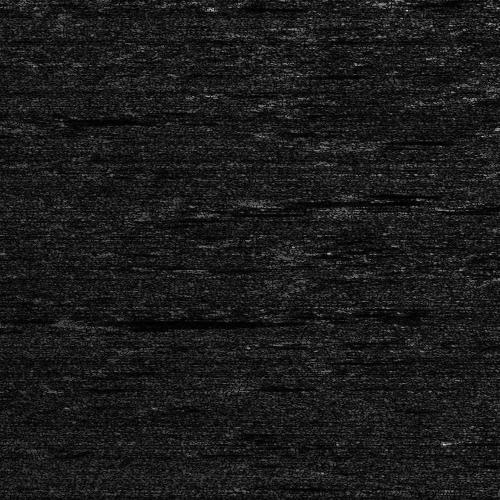rock: (49, 315, 112, 328), (244, 198, 297, 205), (488, 72, 500, 77)
shadow: (81, 315, 274, 328), (271, 198, 395, 205), (0, 0, 12, 4)
